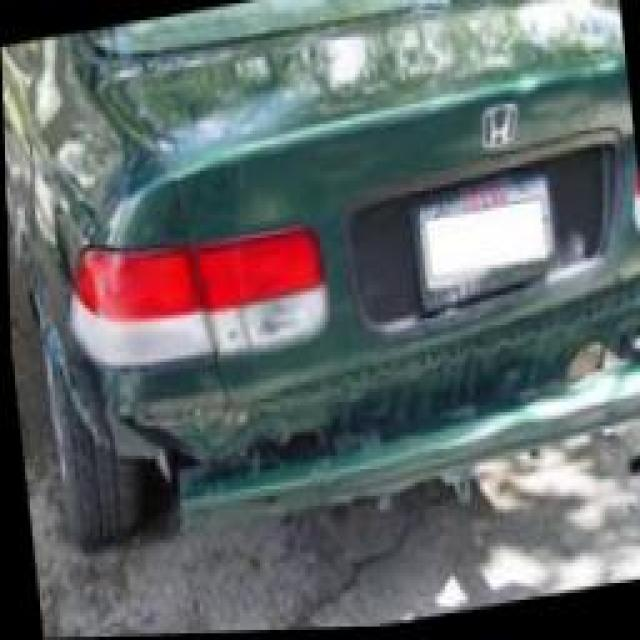Bumper: (82, 306, 640, 532)
